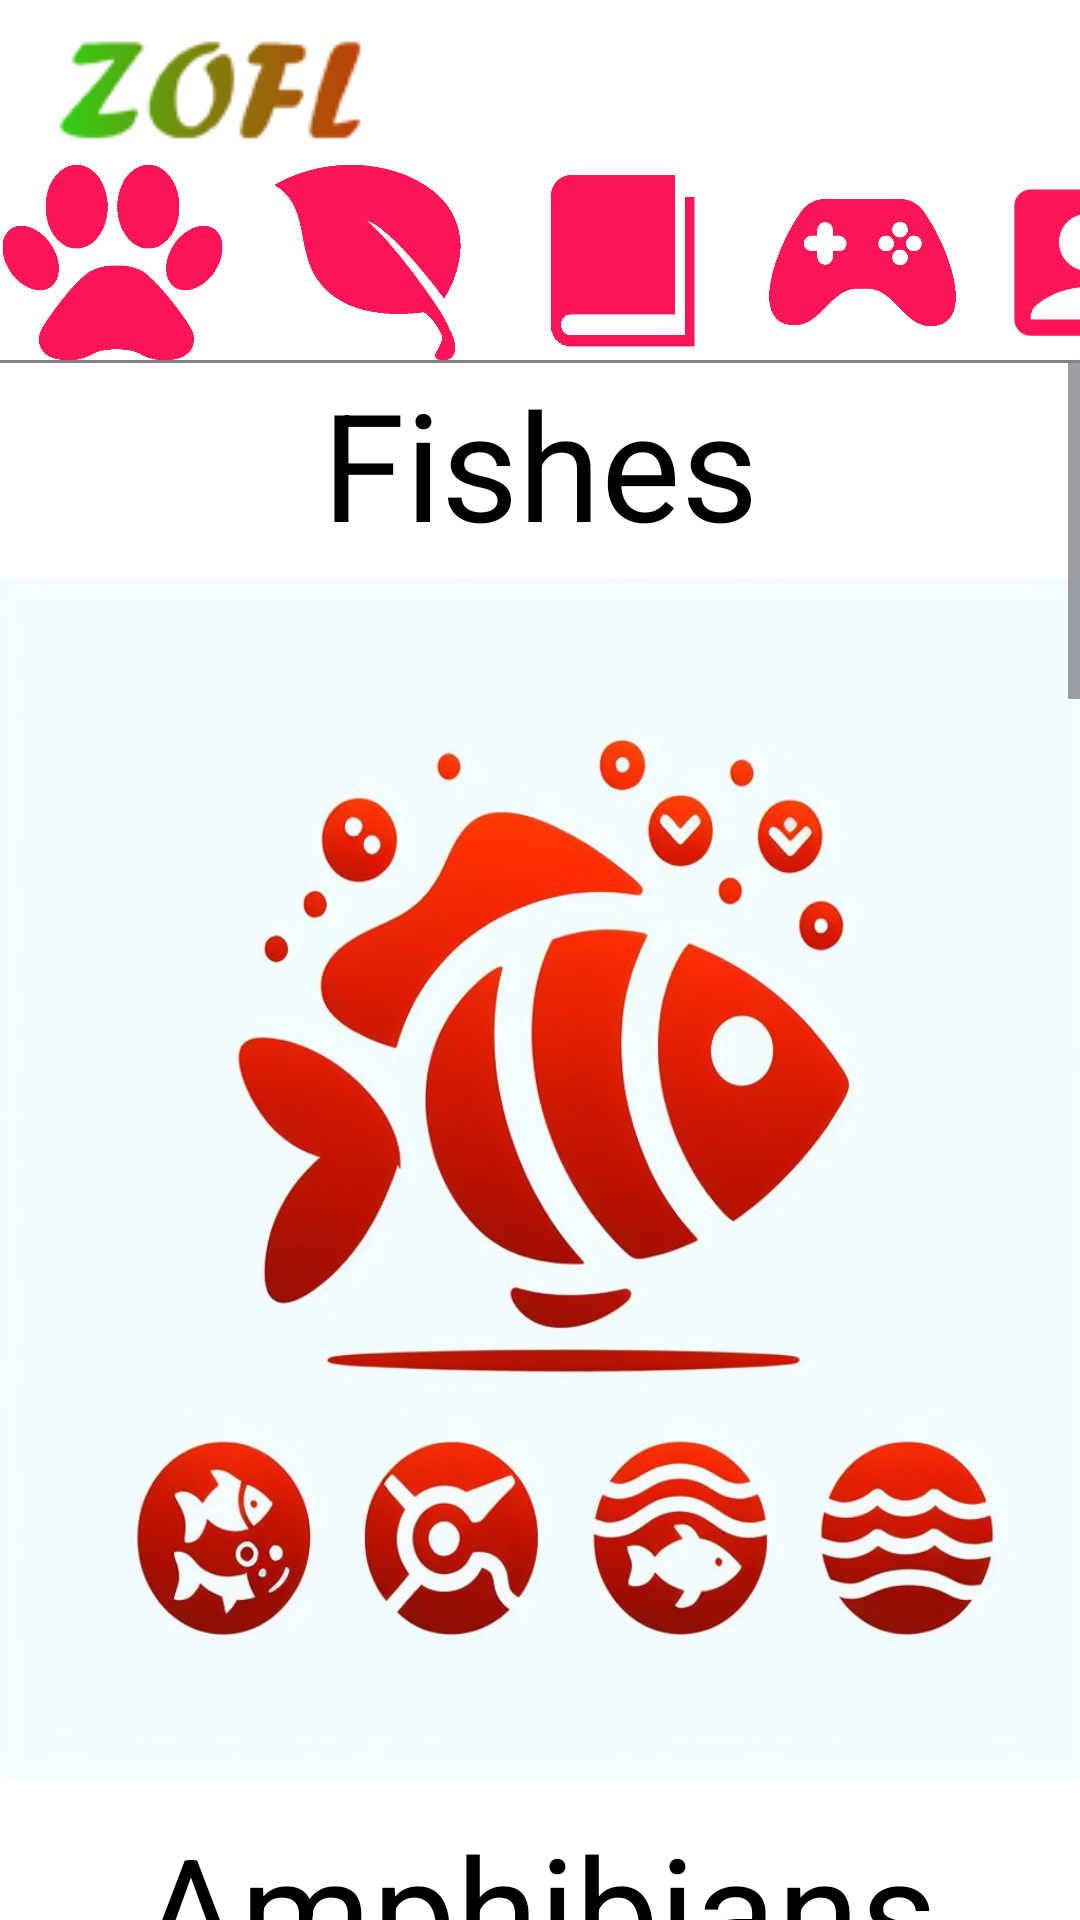

Screen size 1080x1920. Icon name, then its center in pixels as [x,y]:
bookred: [622,261]
gamered: [862,262]
leafred: [368,262]
pawprintred: [112,227]
